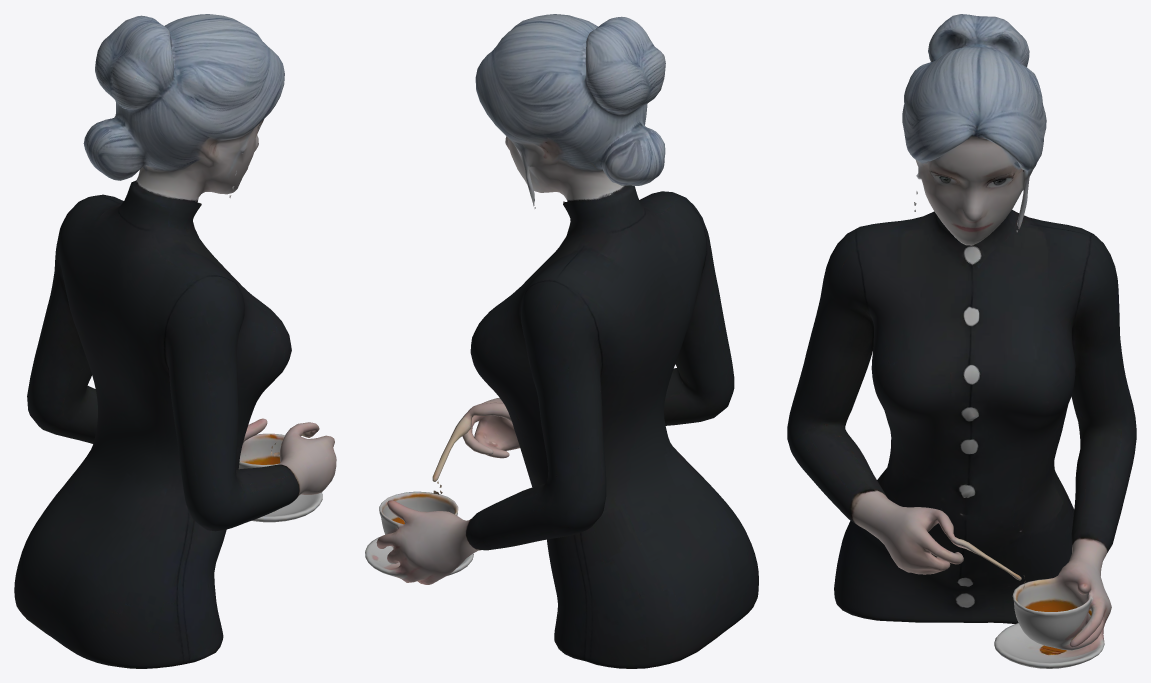
File: suspect_1.glb
The picture shows the model from 3 angles, left to right: view 1: azimuth 30°, elevation 25°; view 2: azimuth 150°, elevation 25°; view 3: azimuth 270°, elevation 25°; orthographic projection.
Parts seen in each view (by area): view 1: tripo_node_8e66d3b9-debe-4d5c-b004-0621ac160e51; view 2: tripo_node_8e66d3b9-debe-4d5c-b004-0621ac160e51; view 3: tripo_node_8e66d3b9-debe-4d5c-b004-0621ac160e51.
Part boxes in pixels (x1,y1,x2,y2): tripo_node_8e66d3b9-debe-4d5c-b004-0621ac160e51: (14,14,336,668); tripo_node_8e66d3b9-debe-4d5c-b004-0621ac160e51: (365,14,758,668); tripo_node_8e66d3b9-debe-4d5c-b004-0621ac160e51: (787,14,1136,668).
Bounding box in the file's own units: 0.551 × 0.9982 × 0.5288.
1 material, 1 textured.
